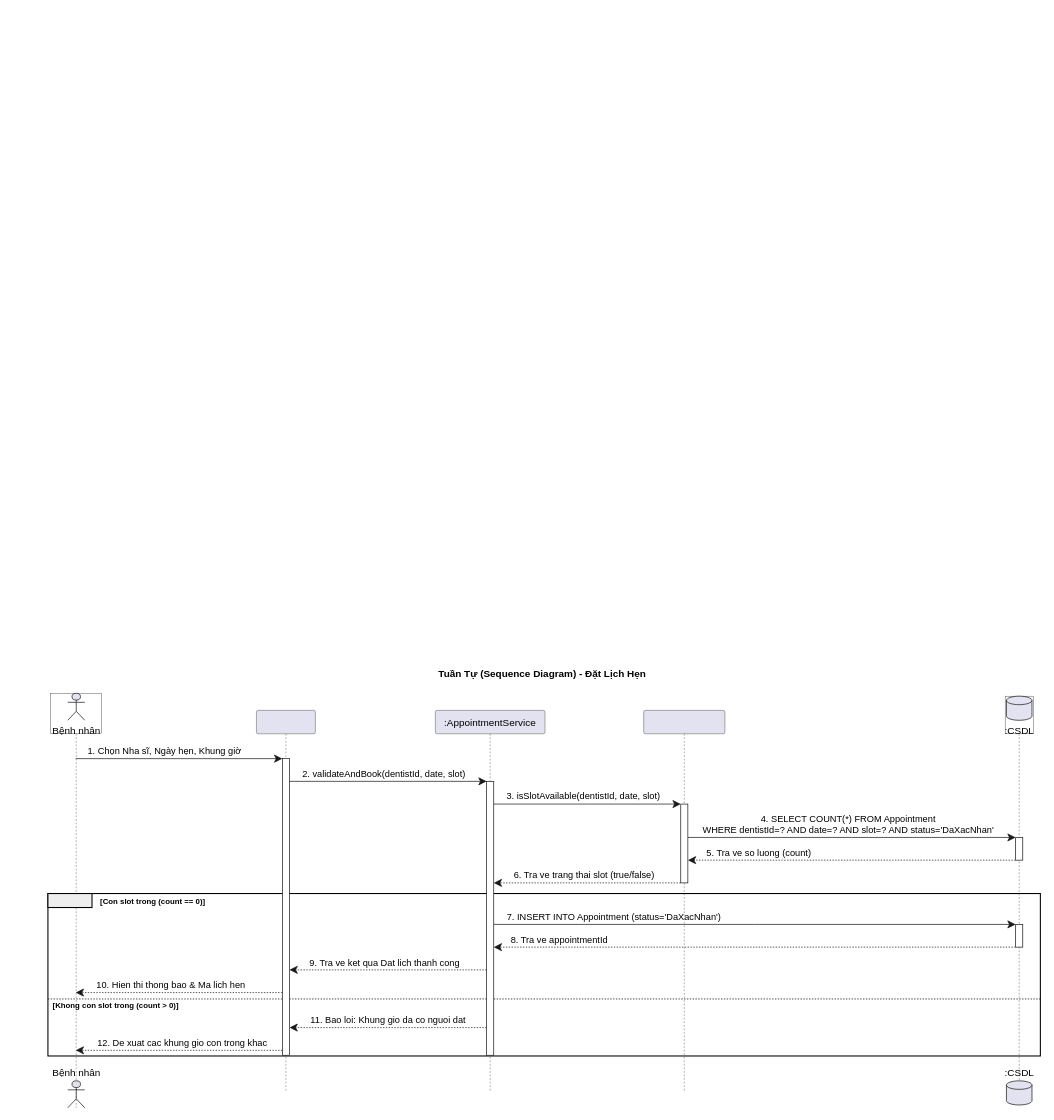
Some shapes in this 1054 by 1120 pixel diagram are drawn without their labels. The shapes that lost their labels are listed below. From the top down, each one's box as (x1, y1, x2, y2) in pixels, then its label:
(47, 893, 92, 908): alt
(256, 710, 315, 1091): :DatLichUI
(643, 710, 725, 1091): :DentistService
